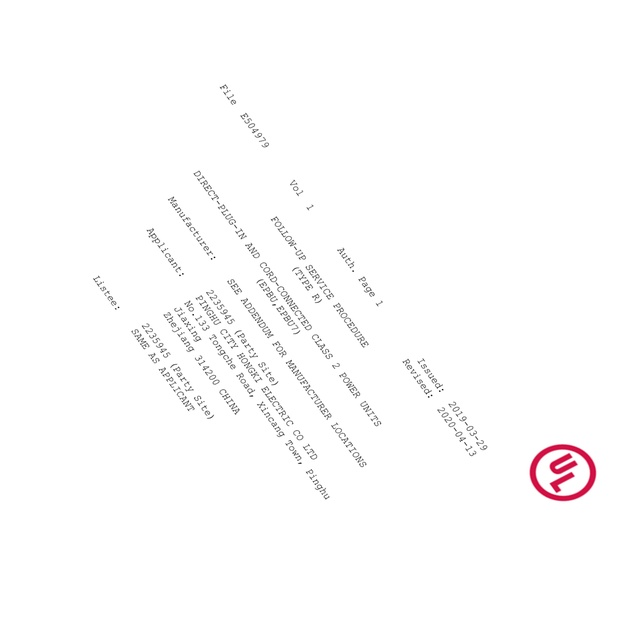ul: (529, 443, 597, 502)
